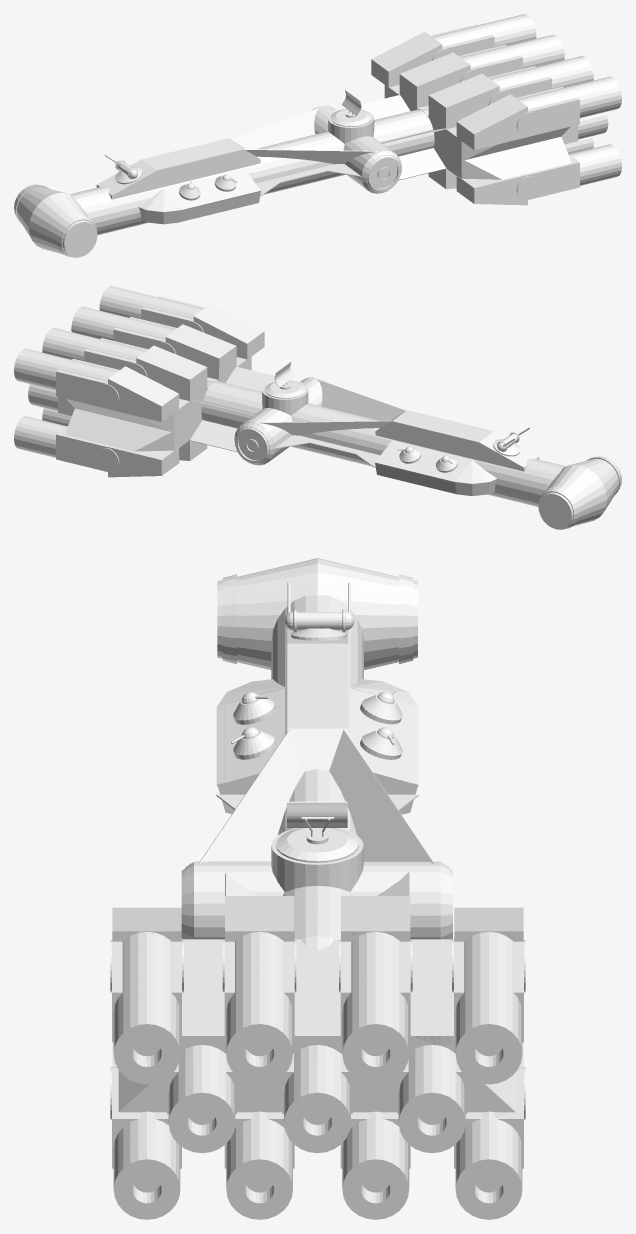
The model's file is tantive.glb.
3 views of the same model, one above another, from view 1: azimuth 30°, elevation 25°; view 2: azimuth 150°, elevation 25°; view 3: azimuth 270°, elevation 25° (orthographic). The views are drawn at different scales.
Parts seen in each view (by area): view 1: node_id5, node_id8; view 2: node_id5, node_id8; view 3: node_id5, node_id8.
Part boxes in pixels (x1,y1,x2,y2): node_id5: [14, 14, 621, 257]; node_id8: [104, 154, 141, 182]; node_id5: [14, 286, 621, 529]; node_id8: [493, 427, 530, 454]; node_id5: [110, 558, 525, 1219]; node_id8: [284, 582, 354, 637].
Size of the model in its own units: 0.512 by 0.0927 by 0.17.
6 materials, 6 textured.
